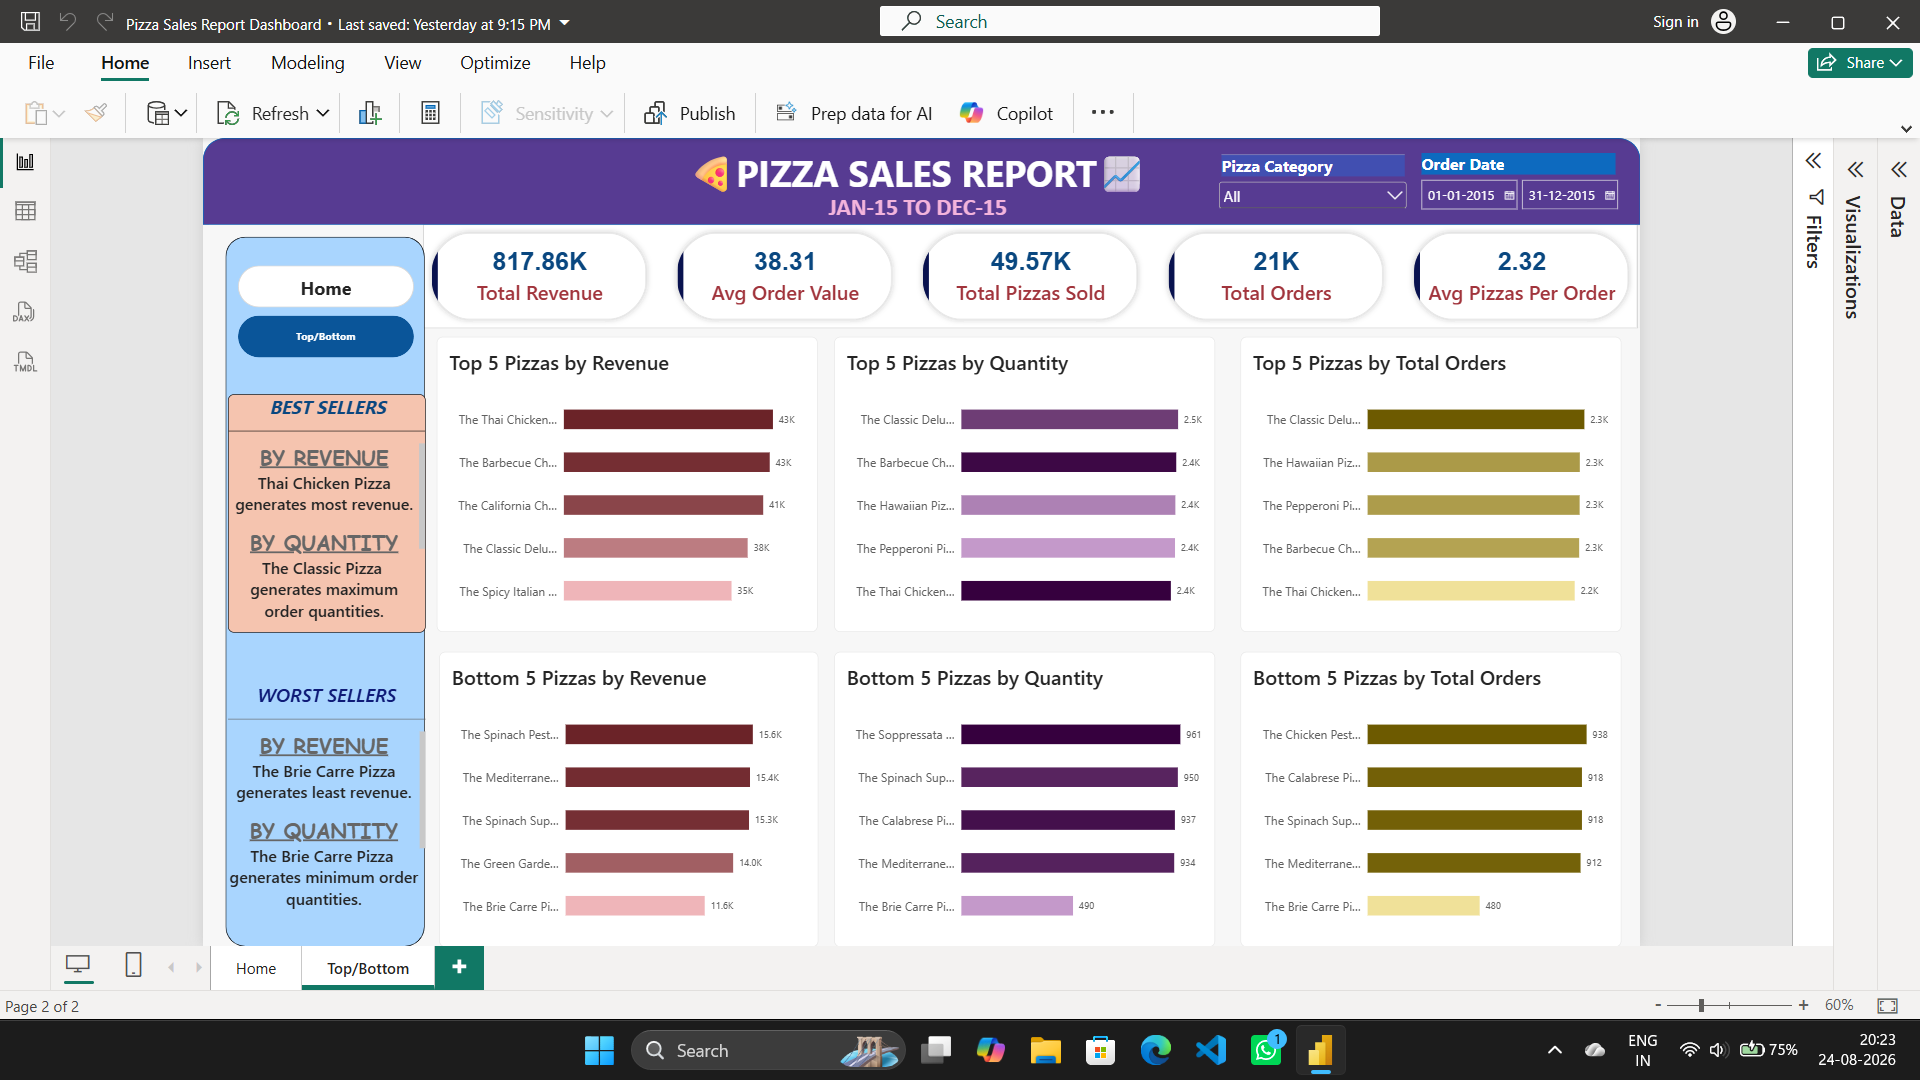

What the dashboard file says about the page in this screenshot:
{"tool":"powerbi","page":{"name":"Top/Bottom","canvas":[1920,1080],"ordinal":1},"visuals":[{"type":"cardVisual","fields":{"Data":["pizza_sales.Total Revenue","pizza_sales.Avg Order Value","pizza_sales.Total Pizzas Sold","pizza_sales.Total Orders","pizza_sales.Avg Pizzas Per Order"]},"box":[293.2,115.8,1626.9,139.3],"z":0},{"type":"shape","box":[0,0,1920,116],"z":1000},{"type":"textbox","box":[0,14,1920,84],"z":2000},{"type":"textbox","box":[708,72,494,44],"z":3000},{"type":"shape","box":[30.8,132.1,266,948.3],"z":4000},{"type":"textbox","title":"BEST SELLERS","box":[32.6,342,264.2,318.5],"z":5000},{"type":"textbox","title":"WORST SELLERS","box":[32.6,725.7,264.2,314.9],"z":6000},{"type":"slicer","fields":{"Values":["pizza_sales.pizza_category"]},"box":[1351.8,21.7,260.6,72.4],"z":7000},{"type":"slicer","fields":{"Values":["pizza_sales.order_date"]},"box":[1619.6,19.9,275.1,150.2],"z":8000},{"type":"barChart","title":"Top 5 Pizzas by Revenue","fields":{"Category":["pizza_sales.pizza_name"],"Y":["pizza_sales.Total Revenue"]},"box":[313.1,266,508.5,394.5],"z":9000},{"type":"barChart","title":"Bottom 5 Pizzas by Revenue","fields":{"Category":["pizza_sales.pizza_name"],"Y":["pizza_sales.Total Revenue"]},"box":[314.9,685.9,506.7,394.5],"z":10000},{"type":"barChart","title":"Top 5 Pizzas by Quantity","fields":{"Category":["pizza_sales.pizza_name"],"Y":["pizza_sales.Total Pizzas Sold"]},"box":[843.3,266,508.5,394.5],"z":11000},{"type":"barChart","title":"Top 5 Pizzas by Total Orders","fields":{"Category":["pizza_sales.pizza_name"],"Y":["pizza_sales.Total Orders"]},"box":[1386.2,266,508.5,394.5],"z":13000},{"type":"barChart","title":"Bottom 5 Pizzas by Quantity ","fields":{"Category":["pizza_sales.pizza_name"],"Y":["pizza_sales.Total Pizzas Sold"]},"box":[843.3,685.9,508.5,394.5],"z":14001},{"type":"barChart","title":"Bottom 5 Pizzas by Total Orders","fields":{"Category":["pizza_sales.pizza_name"],"Y":["pizza_sales.Total Orders"]},"box":[1386.2,685.9,508.5,394.5],"z":14002},{"type":"pageNavigator","box":[47.1,237.1,235.3,56.1],"z":14003},{"type":"pageNavigator","box":[47.1,170.1,235.3,56.1],"z":14004}]}

Visuals, with their boxes on the page's 1920x1080 design canvas (x1, y1, x2, y2). These are canvas units, not pixel positions in the 1920x1080 screenshot, which may show the page scaled, cropped or inside an application window:
cardVisual - pizza_sales.Total Revenue x pizza_sales.Avg Order Value: select_region(293, 116, 1920, 255)
shape: select_region(0, 0, 1920, 116)
textbox: select_region(0, 14, 1920, 98)
textbox: select_region(708, 72, 1202, 116)
shape: select_region(31, 132, 297, 1080)
"BEST SELLERS" textbox: select_region(33, 342, 297, 660)
"WORST SELLERS" textbox: select_region(33, 726, 297, 1041)
slicer - pizza_sales.pizza_category: select_region(1352, 22, 1612, 94)
slicer - pizza_sales.order_date: select_region(1620, 20, 1895, 170)
"Top 5 Pizzas by Revenue" barChart: select_region(313, 266, 822, 660)
"Bottom 5 Pizzas by Revenue" barChart: select_region(315, 686, 822, 1080)
"Top 5 Pizzas by Quantity" barChart: select_region(843, 266, 1352, 660)
"Top 5 Pizzas by Total Orders" barChart: select_region(1386, 266, 1895, 660)
"Bottom 5 Pizzas by Quantity " barChart: select_region(843, 686, 1352, 1080)
"Bottom 5 Pizzas by Total Orders" barChart: select_region(1386, 686, 1895, 1080)
pageNavigator: select_region(47, 237, 282, 293)
pageNavigator: select_region(47, 170, 282, 226)
